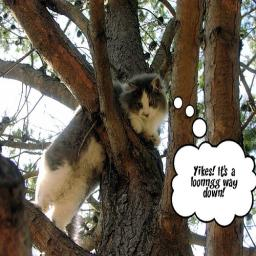catnose: (143, 111, 149, 119)
